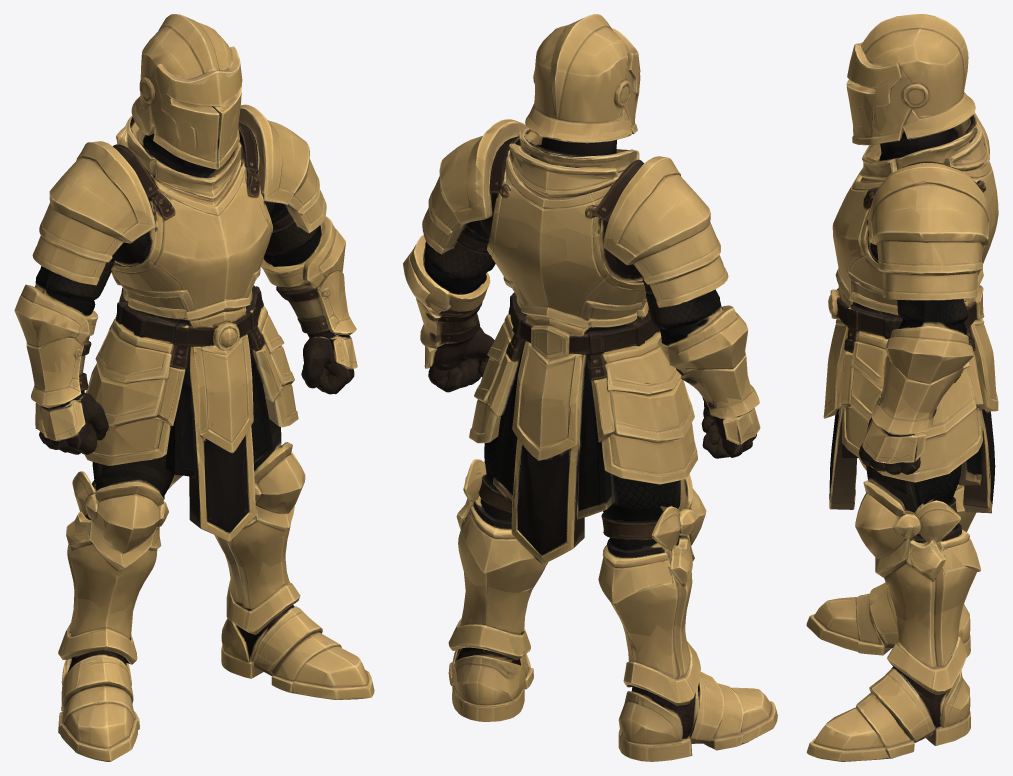
File: Meshy_AI_Golden_Knight_30k_1103044900_texture.glb
3 renders of one model, left to right at view 1: azimuth 30°, elevation 25°; view 2: azimuth 150°, elevation 25°; view 3: azimuth 270°, elevation 25°, orthographic. The views are drawn at different scales.
Visible parts, largest first — view 1: output_unwrapped; view 2: output_unwrapped; view 3: output_unwrapped.
Boxes of the visible parts, <box> form: output_unwrapped: <box>14,14,374,761</box>; output_unwrapped: <box>403,14,777,761</box>; output_unwrapped: <box>806,14,998,761</box>.
Bounding box in the file's own units: 0.9416 × 1.9 × 0.4896.
1 material, 1 textured.
